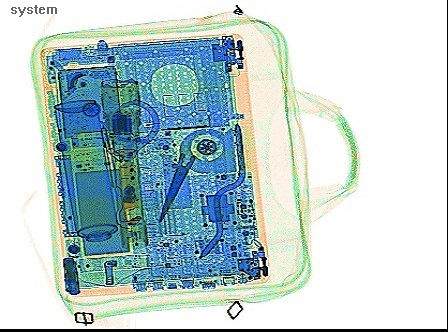handcuffs: (100, 98, 161, 163)
pressure: (53, 96, 118, 242)
scissors: (156, 108, 213, 223)
